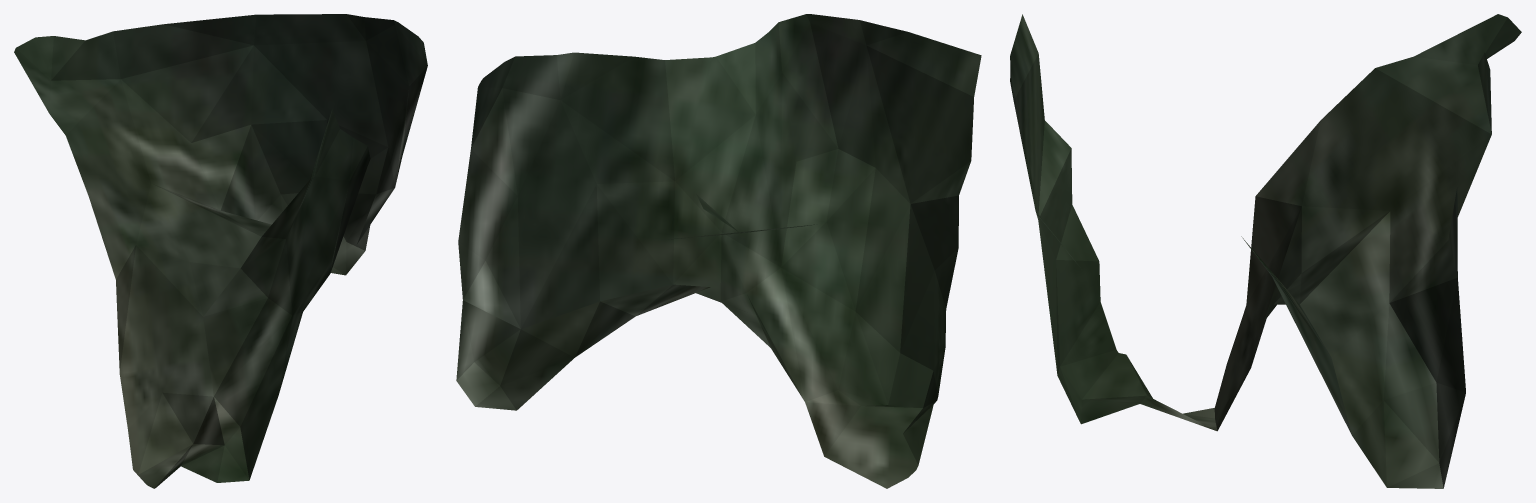
3 renders of one model, left to right at view 1: azimuth 30°, elevation 25°; view 2: azimuth 150°, elevation 25°; view 3: azimuth 270°, elevation 25°, orthographic. The views are drawn at different scales.
Bounding box in the file's own units: 1.6 × 1.56 × 1.8.
Materials: 1 (1 with a texture image).
